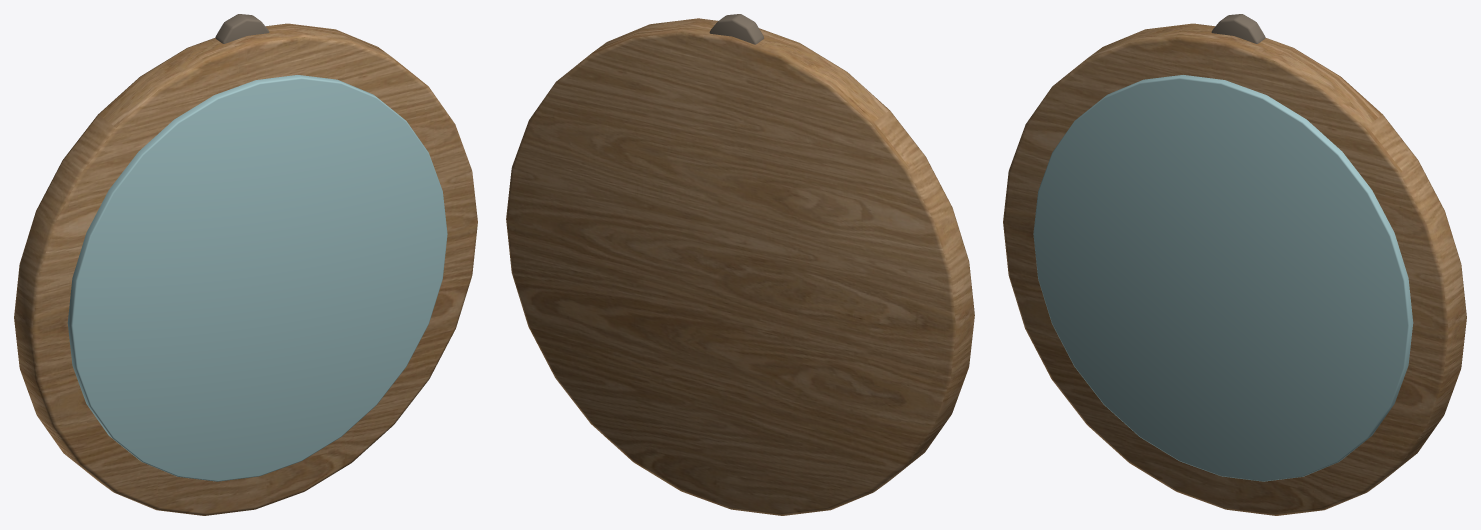
File: round-wall-mirror.glb
3 views of the same model, side by side, from view 1: azimuth 30°, elevation 25°; view 2: azimuth 150°, elevation 25°; view 3: azimuth 330°, elevation 25° (orthographic).
Visible parts, largest first — view 1: catalog_surface_UVMap, catalog_surface_RealismUV; view 2: catalog_surface_RealismUV; view 3: catalog_surface_UVMap, catalog_surface_RealismUV.
Part boxes in pixels (x1,y1,x2,y2): catalog_surface_UVMap: [67, 75, 447, 481]; catalog_surface_RealismUV: [14, 14, 477, 515]; catalog_surface_RealismUV: [506, 14, 974, 515]; catalog_surface_UVMap: [1033, 75, 1413, 481]; catalog_surface_RealismUV: [1003, 14, 1466, 515].
Size of the model in its own units: 0.72 by 0.7447 by 0.0666.
3 materials, 1 textured.
